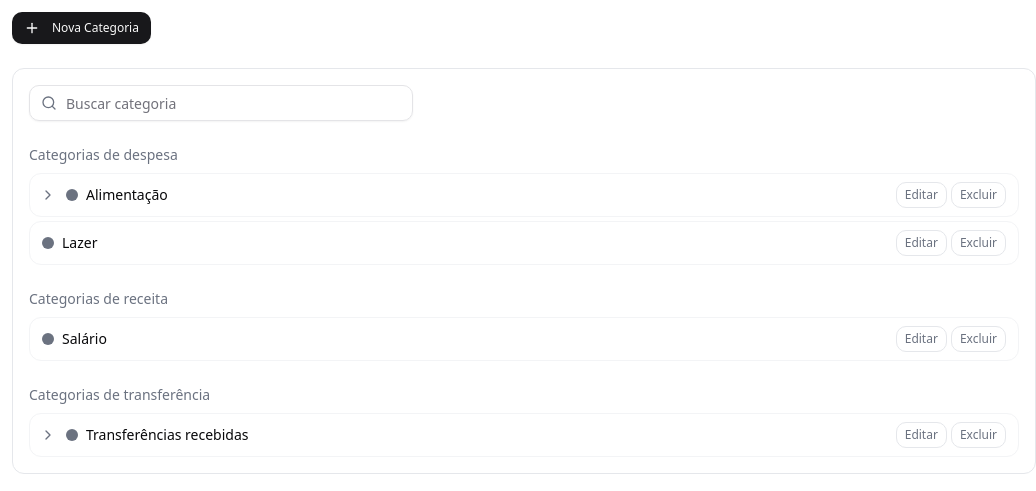
Test case: CategoryList › busca sem acento e já mostra a filha encontrada com a mãe
Type "resgate" into the field with placeholder "Buscar categoria" at (221, 103), box [29, 85, 413, 121]
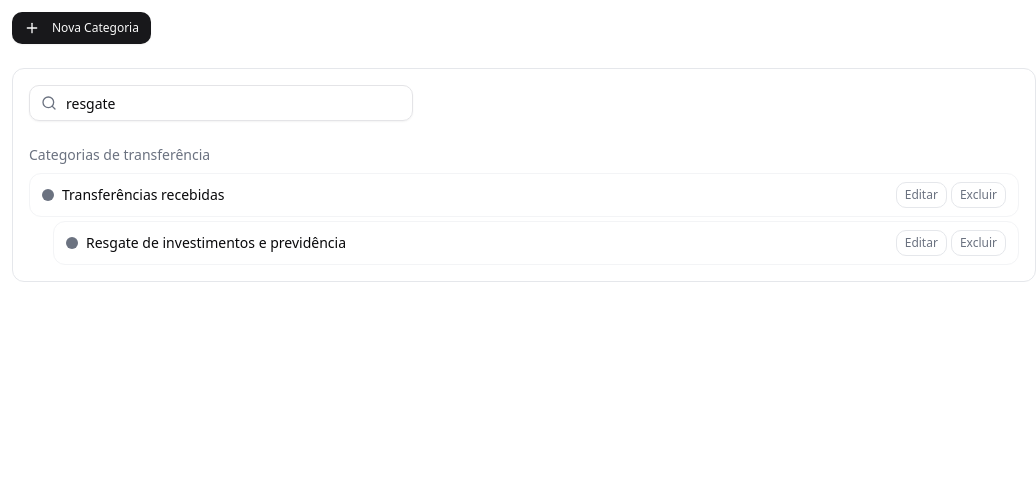
Check: the text "Resgate de investimentos e previdência" is shown, box [86, 233, 346, 253]
Check: the text "Lazer" is gone
Check: the text "Salário" is gone
